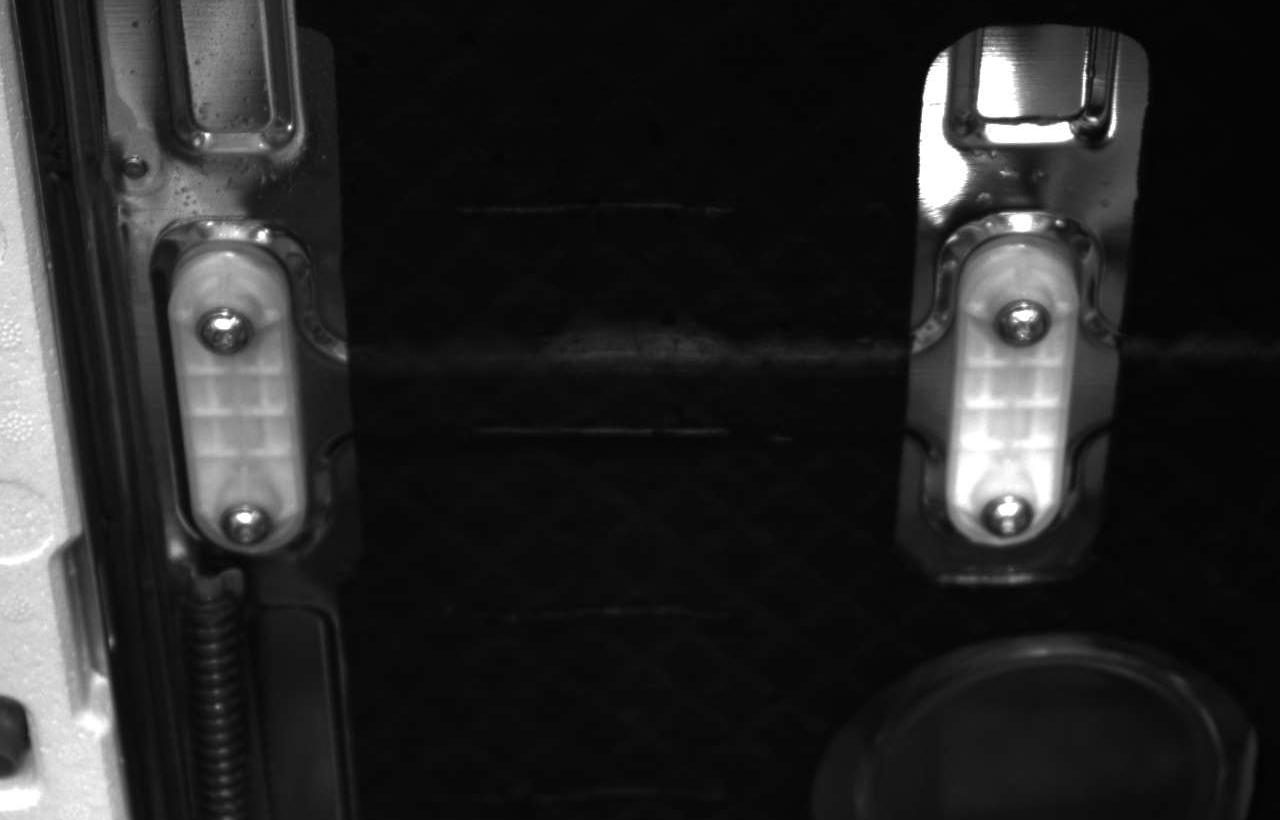vida-ok: (191, 297, 263, 364), (991, 288, 1059, 355), (974, 477, 1040, 545), (216, 492, 281, 551)
